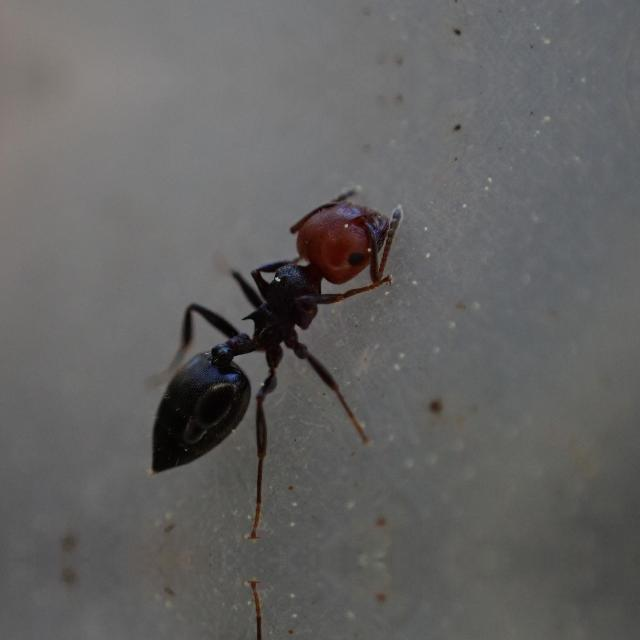Crematogaster: (118, 172, 396, 500)
